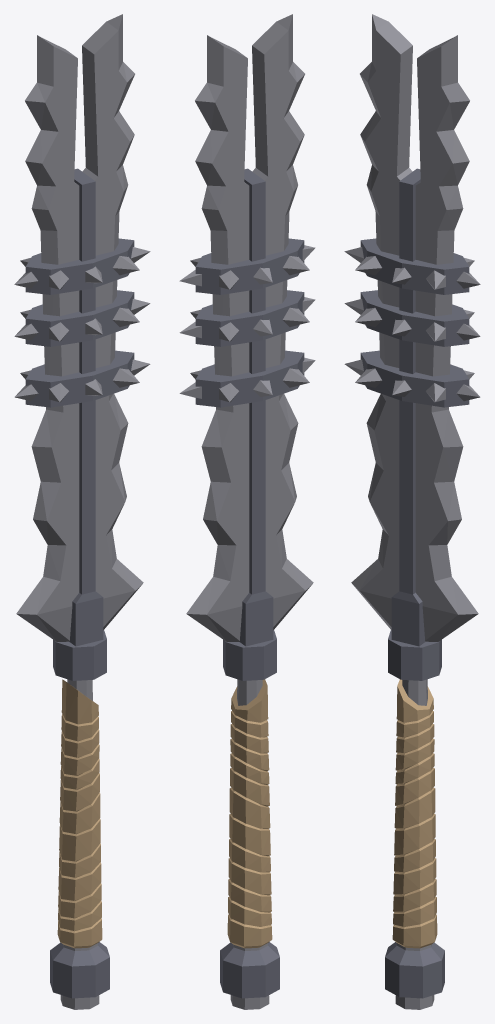
The model's file is hammer_hammer_17.glb.
3 views of the same model, side by side, from view 1: azimuth 30°, elevation 25°; view 2: azimuth 210°, elevation 25°; view 3: azimuth 330°, elevation 25° (orthographic).
Parts seen in each view (by area): view 1: hammer_17; view 2: hammer_17; view 3: hammer_17.
Boxes of the visible parts, x1,y1,x2,y2 form: hammer_17: (14, 14, 150, 1009); hammer_17: (179, 14, 315, 1009); hammer_17: (344, 14, 480, 1009).
Size of the model in its own units: 12.64 by 86.49 by 7.28.
1 material, 1 textured.
